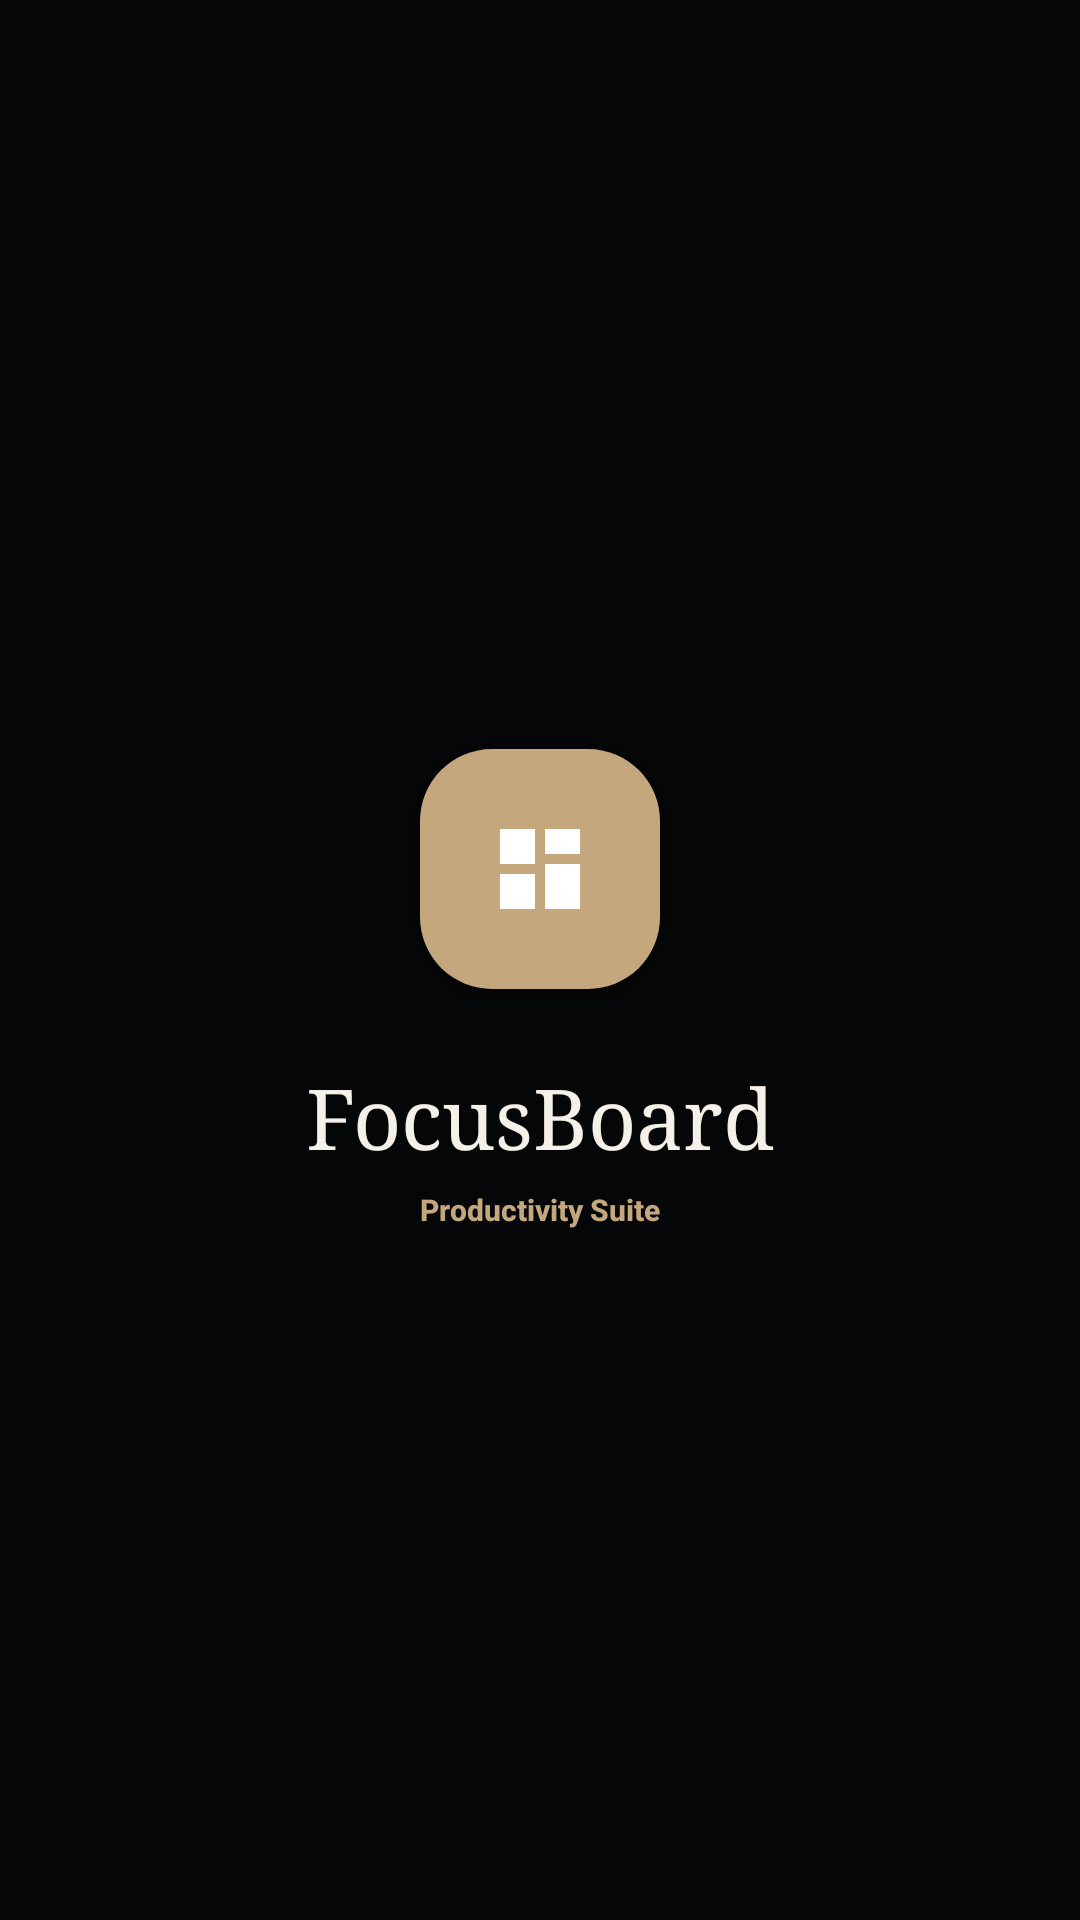

Screen size 1080px×1920px. Icon name, then its center in pixels as (x=x, y=y):
workspace: (x=540, y=869)
